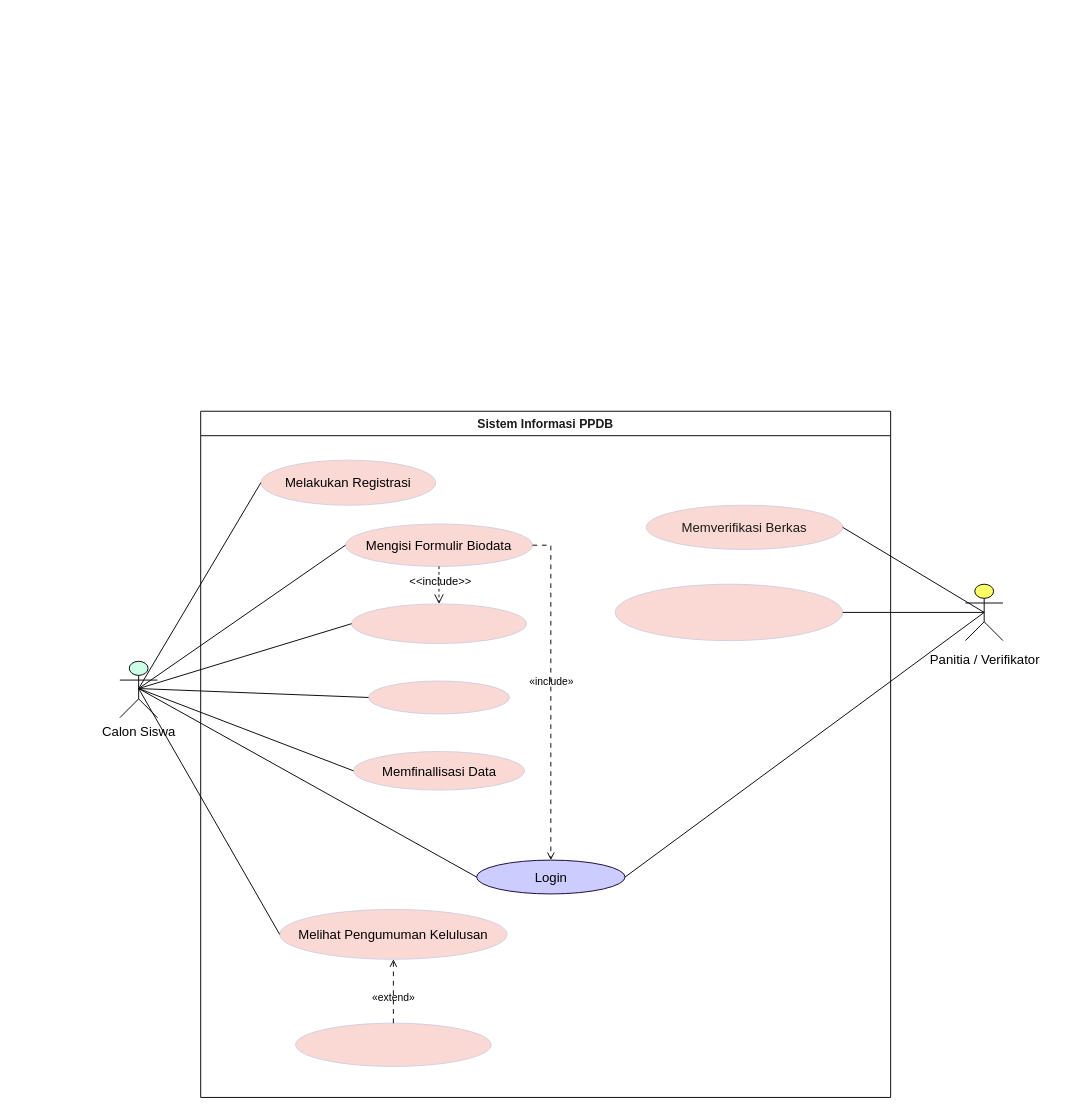
This 1070x1114 diagram has some shape labels left out. The shapes that lost their labels are listed below. From the top down, each one's centre as x and y in pixels, then its label:
At point 438,623: "Pilih Jalur Pendaftaran".
At point 728,612: "Mengkalkulasi Pemeringkatan".
At point 438,697: "Unggah Dokumen".
At point 393,1044: "Cetak Bukti & Daftar Ulang".
